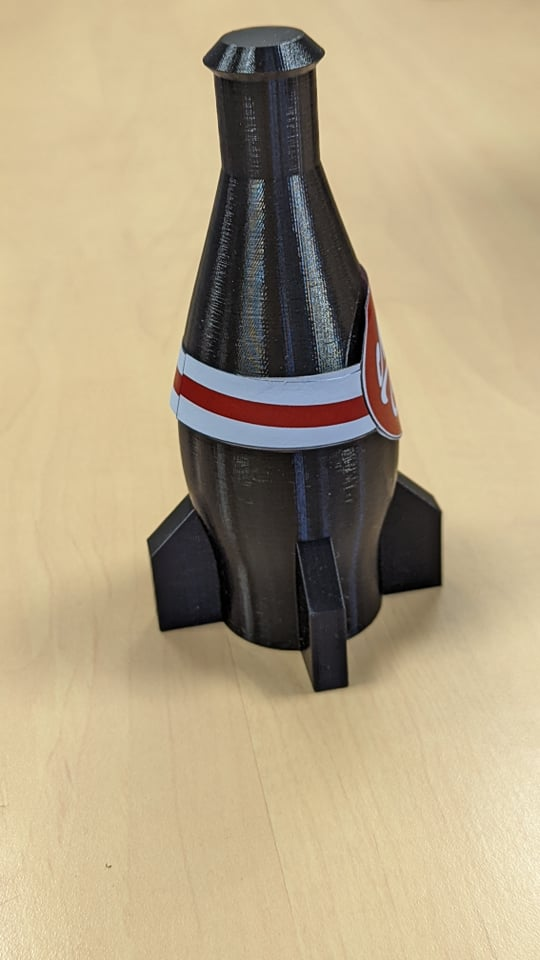bottle: (125, 20, 468, 708)
